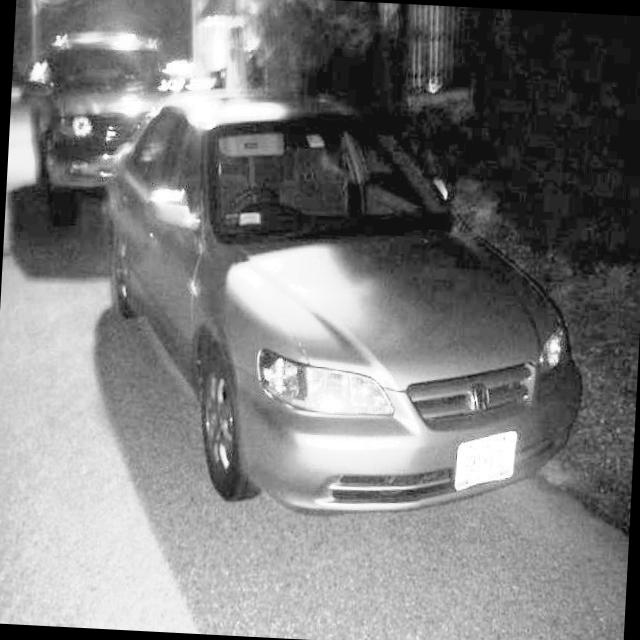Car: (83, 70, 598, 612), (10, 24, 177, 225)
